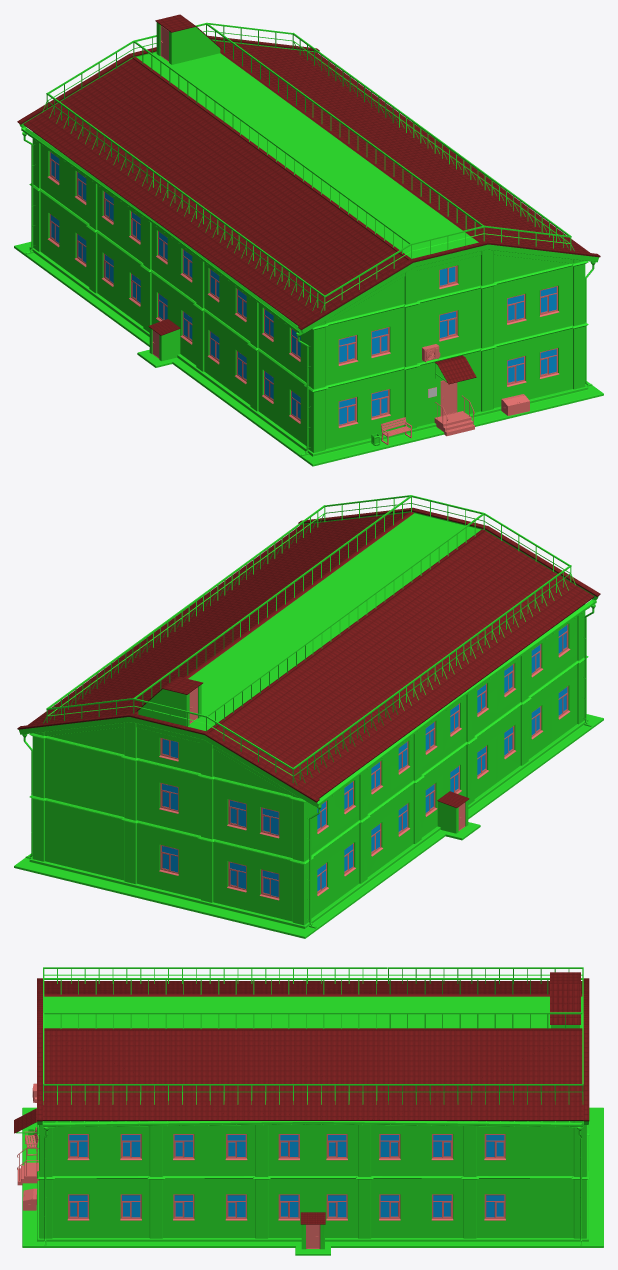
Rendered from mesh_house_main.fbx.
3 views of the same model, one above another, from view 1: azimuth 30°, elevation 25°; view 2: azimuth 150°, elevation 25°; view 3: azimuth 270°, elevation 25° (orthographic). The views are drawn at different scales.
Visible parts, largest first — view 1: house_roof_front, house_roof_back, house_roof_middle, 1st_floor_front_left_corner, 2nd_floor_front_left_corner, door_entrance, 1st_floor_front_right_corner, 2nd_floor_front_right_corner, 2nd_floor_front_middle, 1st_floor_back_left_corner, 1st_floor_front_left_side, 1st_floor_back_left_side (+10 smaller); view 2: house_roof_back, house_roof_front, house_roof_middle, 1st_floor_back_left_corner, 2nd_floor_back_left_corner, 1st_floor_back_right_corner, 1st_floor_back_middle, 2nd_floor_back_right_corner, 2nd_floor_front_middle, 1st_floor_front_left_corner, 1st_floor_back_left_side, 1st_floor_front_left_side (+10 smaller); view 3: house_roof_front, house_roof_back, house_roof_middle, 1st_floor_back_right_corner, 1st_floor_front_right_corner, 1st_floor_front_right_side, 1st_floor_back_right_side, 1st_floor_side_right_middle, 2nd_floor_back_right_corner, 2nd_floor_front_right_corner, 2nd_floor_front_right_side, 2nd_floor_back_right_side (+9 smaller).
Part boxes in pixels (x1,y1,x2,y2): house_roof_front: (198, 152, 600, 334); house_roof_back: (17, 22, 418, 201); house_roof_middle: (122, 96, 494, 257); 1st_floor_front_left_corner: (244, 342, 414, 466); 2nd_floor_front_left_corner: (250, 297, 404, 389); door_entrance: (404, 345, 501, 441); 1st_floor_front_right_corner: (493, 322, 603, 420); 2nd_floor_front_right_corner: (493, 261, 588, 344); 2nd_floor_front_middle: (404, 282, 496, 366); 1st_floor_back_left_corner: (14, 183, 97, 297); 1st_floor_front_left_side: (189, 303, 252, 415); 1st_floor_back_left_side: (82, 230, 151, 337); house_roof_back: (17, 625, 419, 806); house_roof_front: (199, 495, 600, 673); house_roof_middle: (122, 569, 495, 729); 1st_floor_back_left_corner: (203, 815, 373, 938); 2nd_floor_back_left_corner: (213, 769, 367, 861); 1st_floor_back_right_corner: (14, 794, 124, 892); 1st_floor_back_middle: (116, 817, 213, 913); 2nd_floor_back_right_corner: (29, 733, 124, 816); 2nd_floor_front_middle: (121, 755, 213, 839); 1st_floor_front_left_corner: (520, 656, 603, 770); 1st_floor_back_left_side: (364, 775, 428, 888); 1st_floor_front_left_side: (466, 702, 535, 809); house_roof_front: (37, 967, 238, 1127); house_roof_back: (387, 967, 589, 1127); house_roof_middle: (238, 967, 387, 1125); 1st_floor_back_right_corner: (461, 1135, 603, 1247); 1st_floor_front_right_corner: (22, 1135, 165, 1247); 1st_floor_front_right_side: (156, 1176, 270, 1247); 1st_floor_back_right_side: (355, 1176, 469, 1247); 1st_floor_side_right_middle: (261, 1176, 364, 1255); 2nd_floor_back_right_corner: (463, 1121, 586, 1176); 2nd_floor_front_right_corner: (39, 1121, 162, 1176); 2nd_floor_front_right_side: (163, 1121, 268, 1176); 2nd_floor_back_right_side: (358, 1121, 463, 1176).
Bounding box in the file's own units: 2054 × 3321 × 1235.
